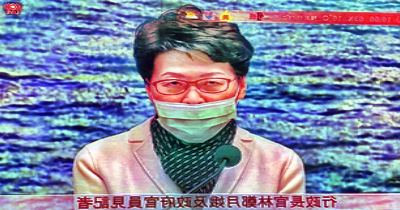mask_weared_incorrect: (149, 69, 237, 144)
